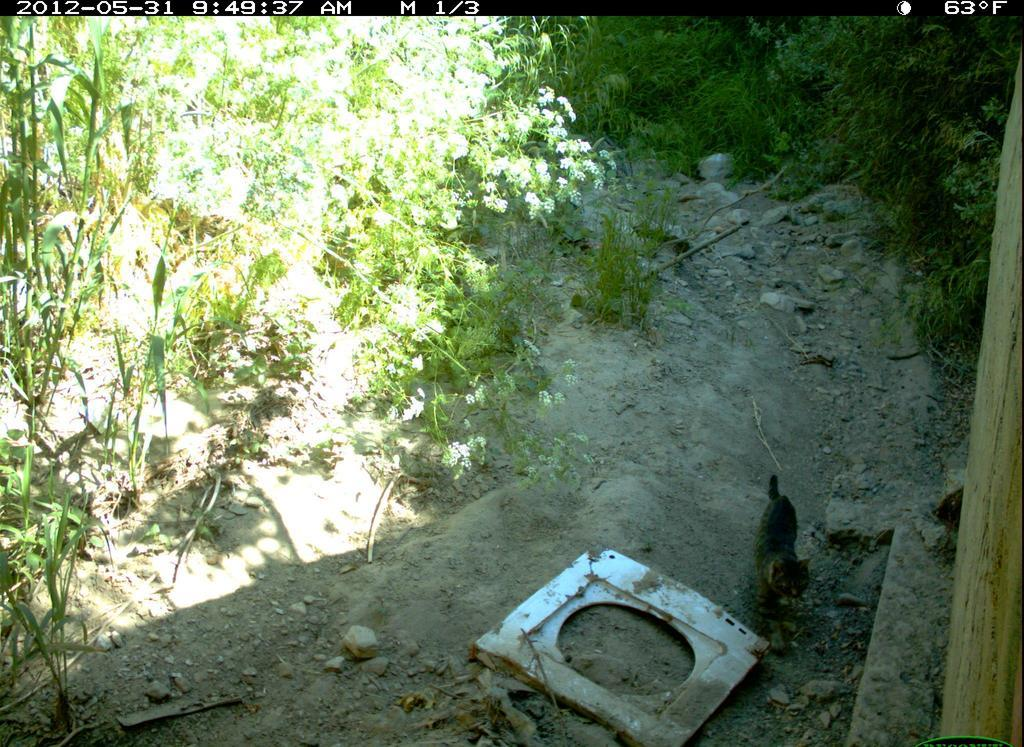cat: (744, 466, 821, 656)
